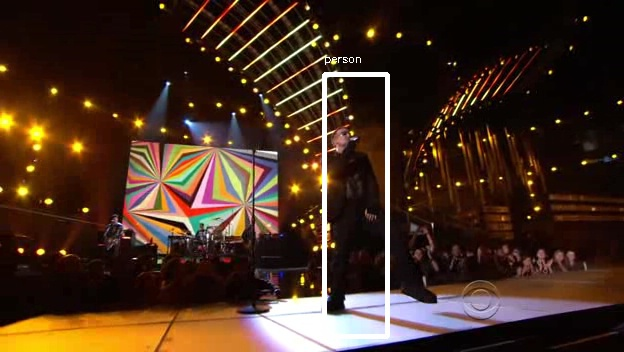person: (316, 126, 383, 241), (313, 126, 380, 241), (319, 126, 386, 241), (316, 123, 383, 238), (316, 129, 383, 244)
target_negative: (148, 252, 460, 341), (45, 211, 291, 233), (290, 59, 375, 121), (137, 335, 440, 339), (250, 103, 285, 124), (550, 182, 560, 227)
